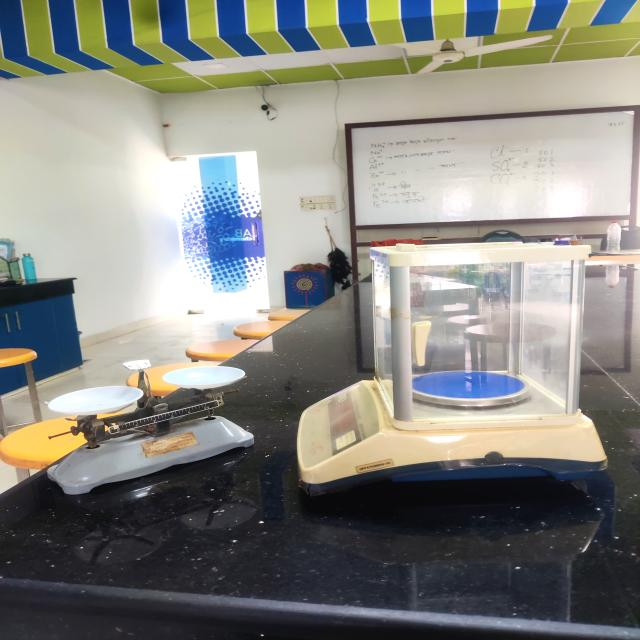Nessler_Reagent_Bottle: (28, 346, 262, 520)
Precision_Weight_Scale: (279, 226, 640, 515)
